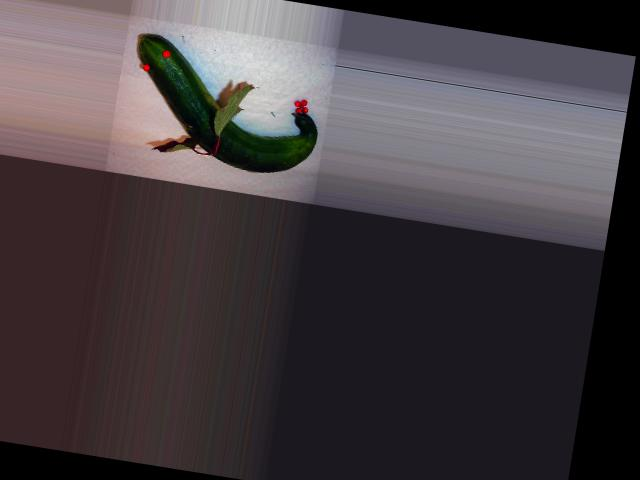cucumber: (122, 32, 329, 180)
